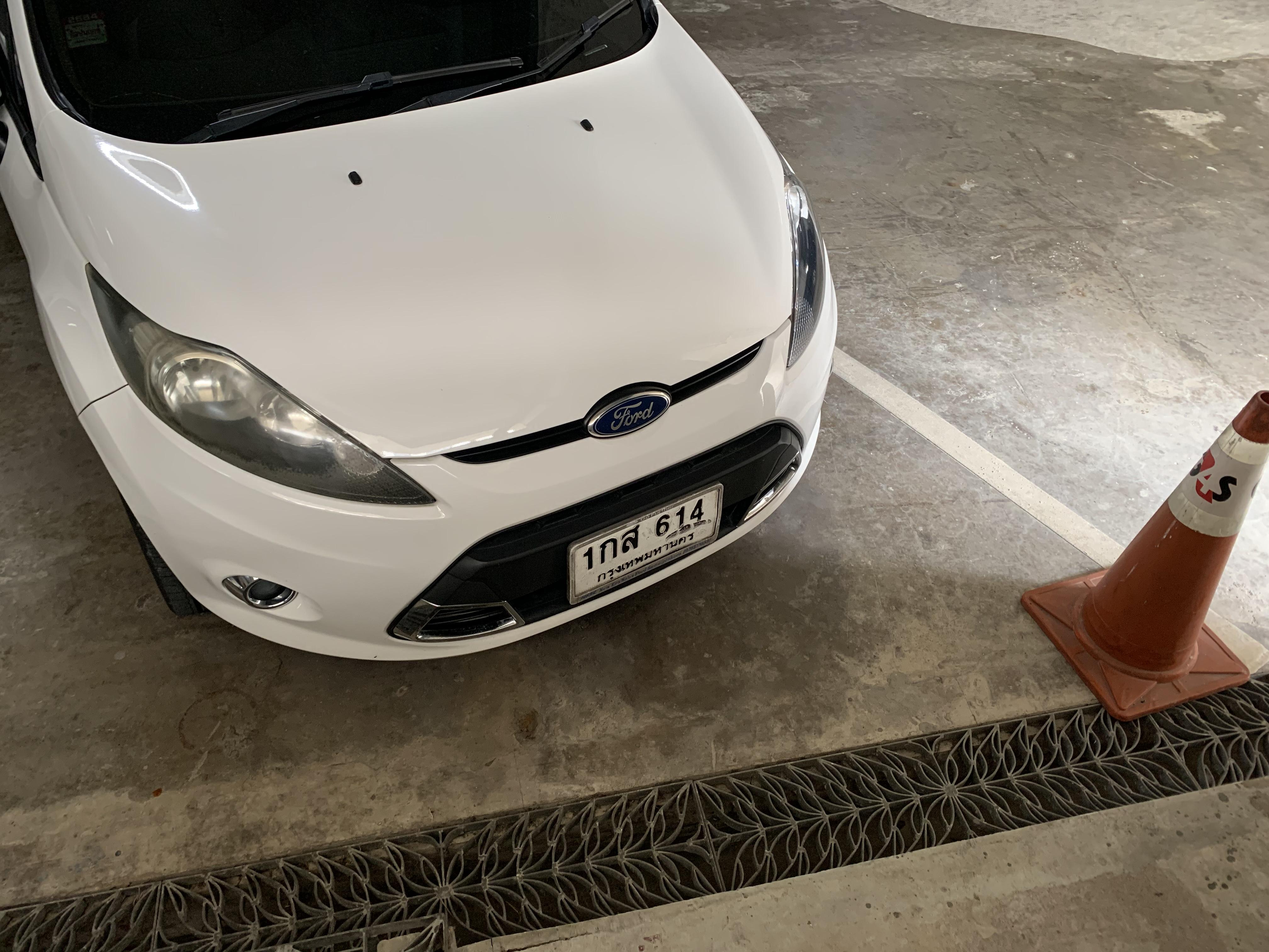license-plate: (565, 475, 729, 613)
